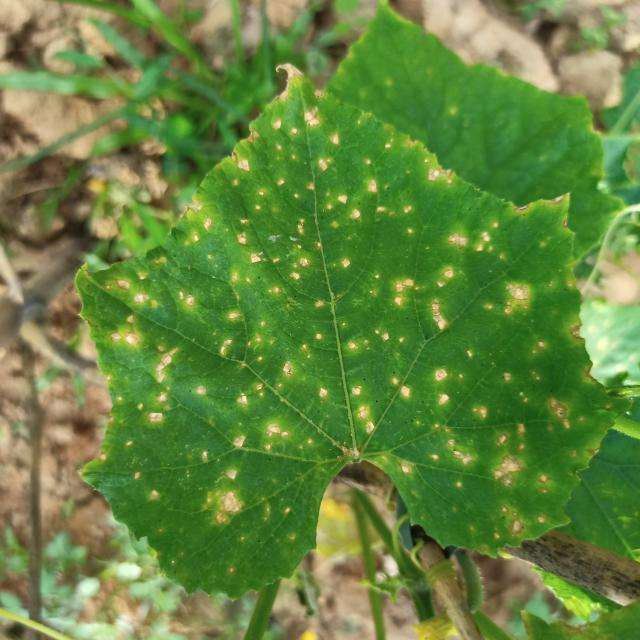disease_cucumber: (154, 87, 540, 332), (334, 250, 610, 541), (76, 277, 357, 547)
